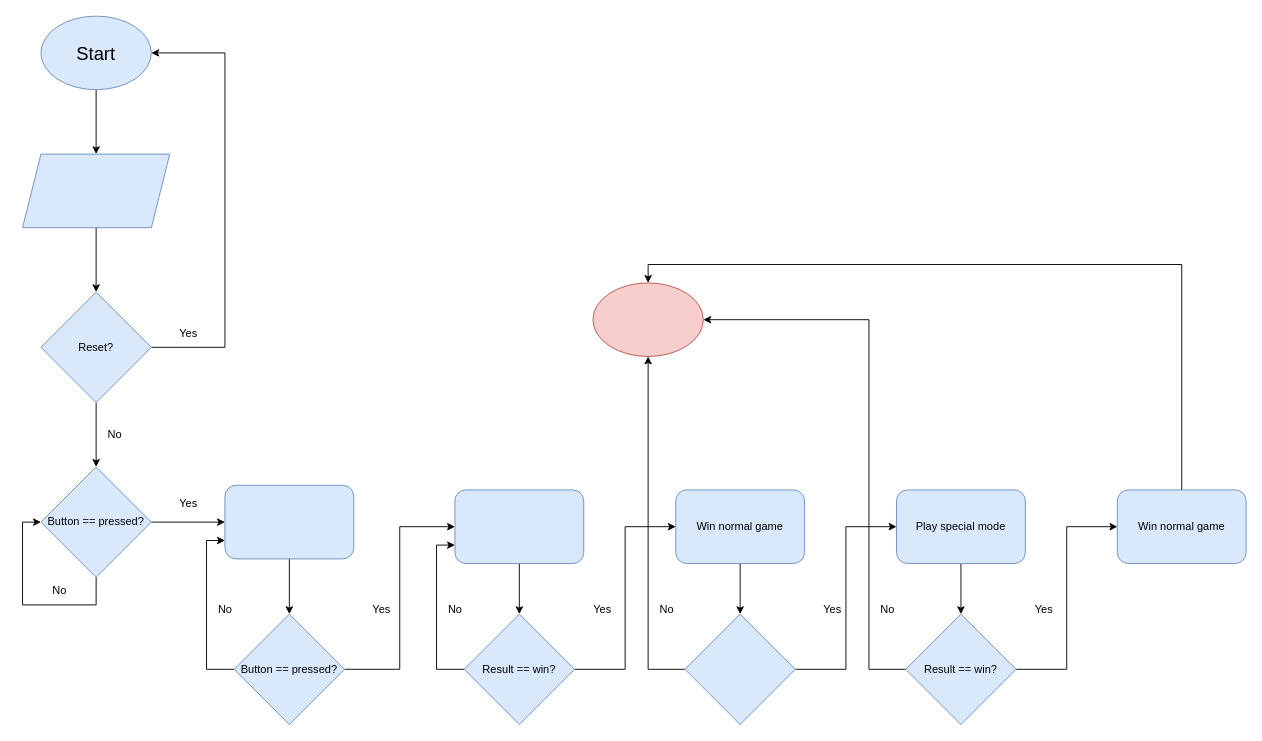
Some shapes in this 1262 by 741 pixel diagram are drawn without their labels. The box of each missing label's shape, as (x1, y1, x2, y2) in pixels:
Chang Mode, Next setting: (224, 484, 354, 559)
Done setting, play game: (454, 489, 584, 564)
End: (592, 282, 703, 356)
Play special mode?: (684, 613, 795, 724)
Read button, clk, reset: (22, 153, 170, 228)
